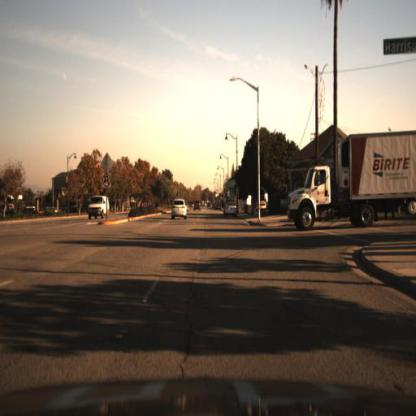car: (85, 193, 112, 228), (168, 192, 196, 224), (224, 197, 240, 215), (193, 198, 203, 213)
truck: (283, 115, 416, 245)
